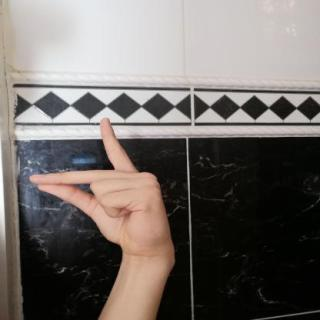TAA: (22, 113, 184, 261)
